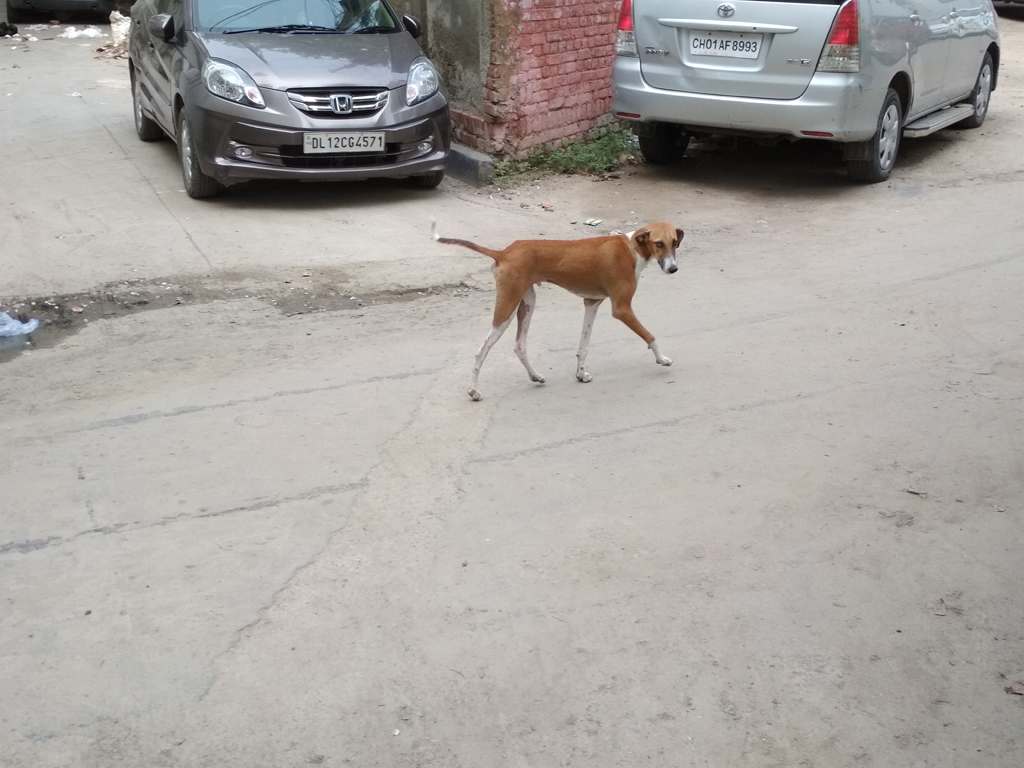dog: (430, 217, 684, 400)
